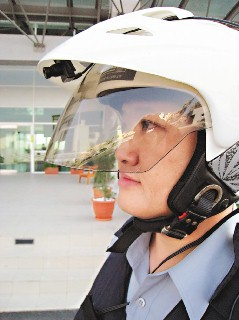helmet: (59, 23, 239, 175)
